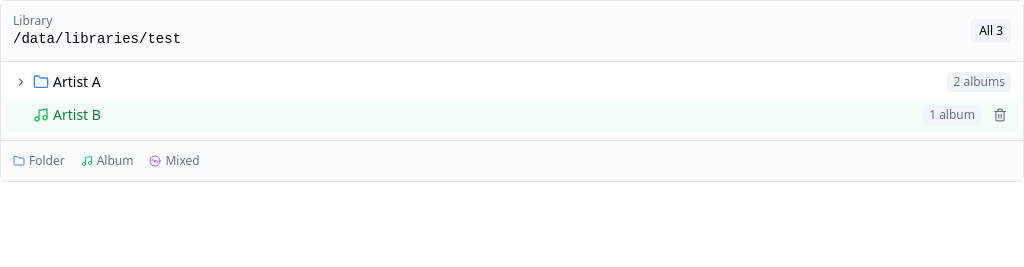
it: LibraryFolderTree › expands a folder when the chevron is clicked
Expected: the text "Album One" is not shown
# Expand Artist A
Click the button named "Expand folder" at (21, 82), box [13,74,29,90]
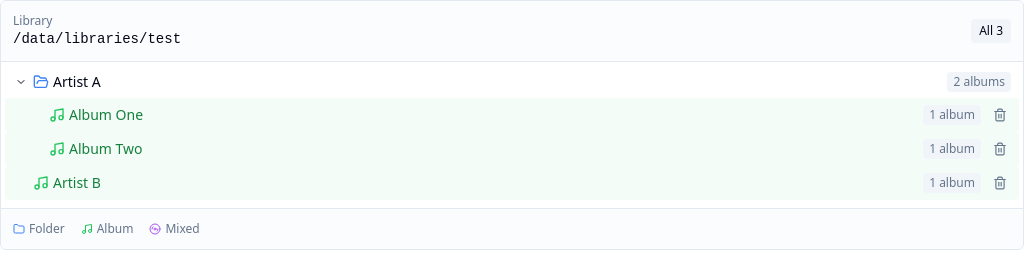
Expected: the button "Album One" is shown, [69,105,915,125]
Expected: the button "Album Two" is shown, [69,139,915,159]
